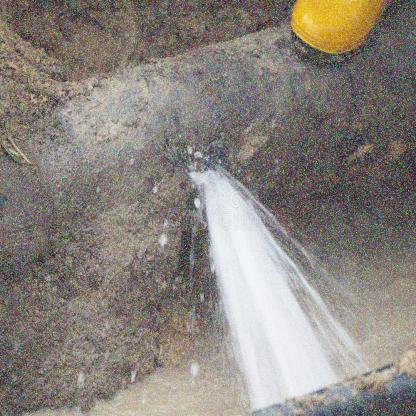burst: (170, 142, 248, 228)
